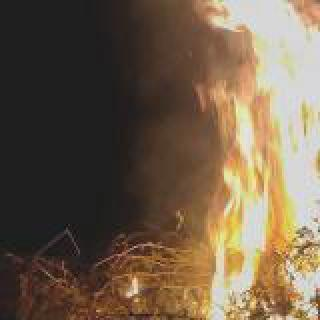fire: (110, 0, 320, 318)
